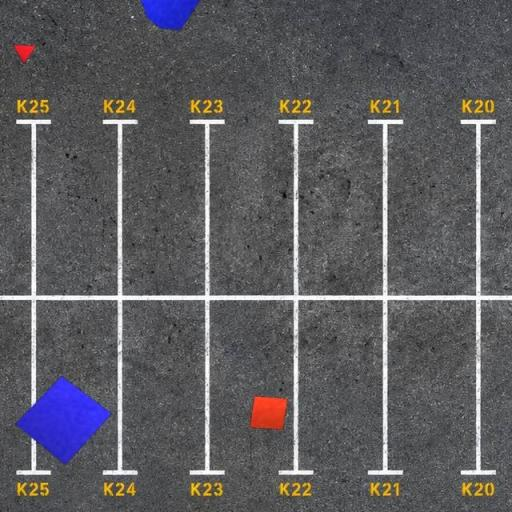BLUE_SQUARE: (14, 375, 113, 466)
RED_SQUARE: (250, 396, 288, 430)
